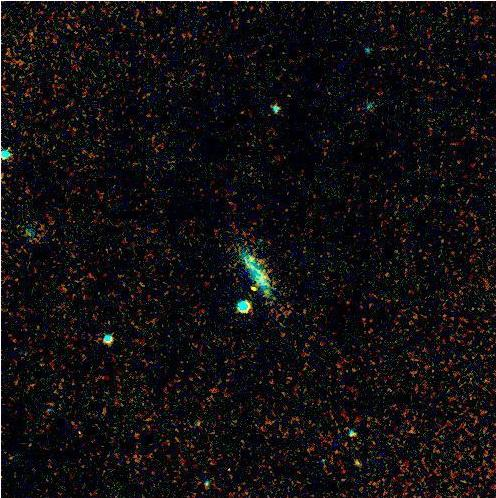star: (240, 275, 270, 305)
